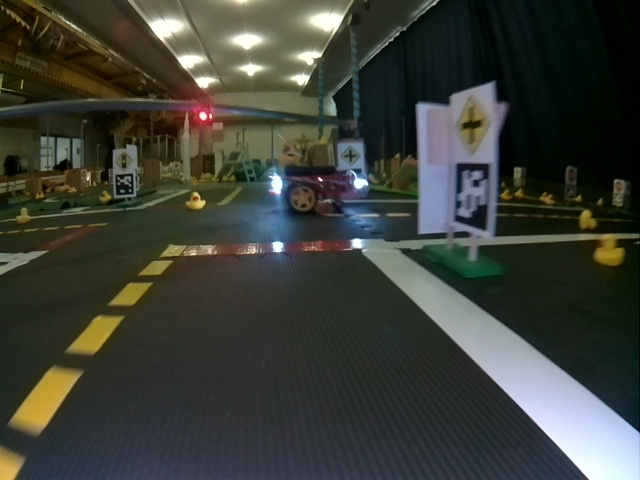Duckie: (592, 236, 624, 266), (185, 190, 207, 208), (581, 210, 596, 229), (501, 190, 509, 198), (543, 194, 550, 202)
Duckiebot: (285, 163, 365, 214)
Intersection sign: (456, 94, 487, 156), (340, 145, 361, 165)
QR code: (458, 166, 490, 231), (117, 175, 136, 196)
Signal sign: (115, 150, 135, 173)
Stop sign: (567, 168, 575, 177)
Traffic light: (189, 100, 214, 129)
